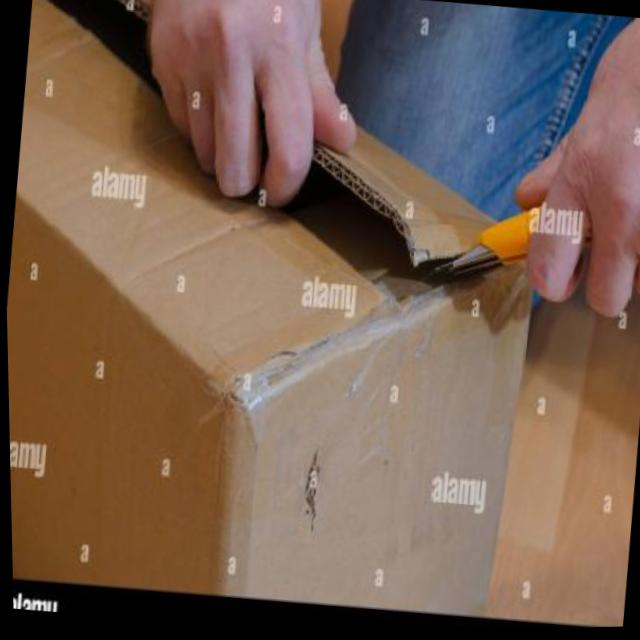box: (0, 0, 566, 628)
